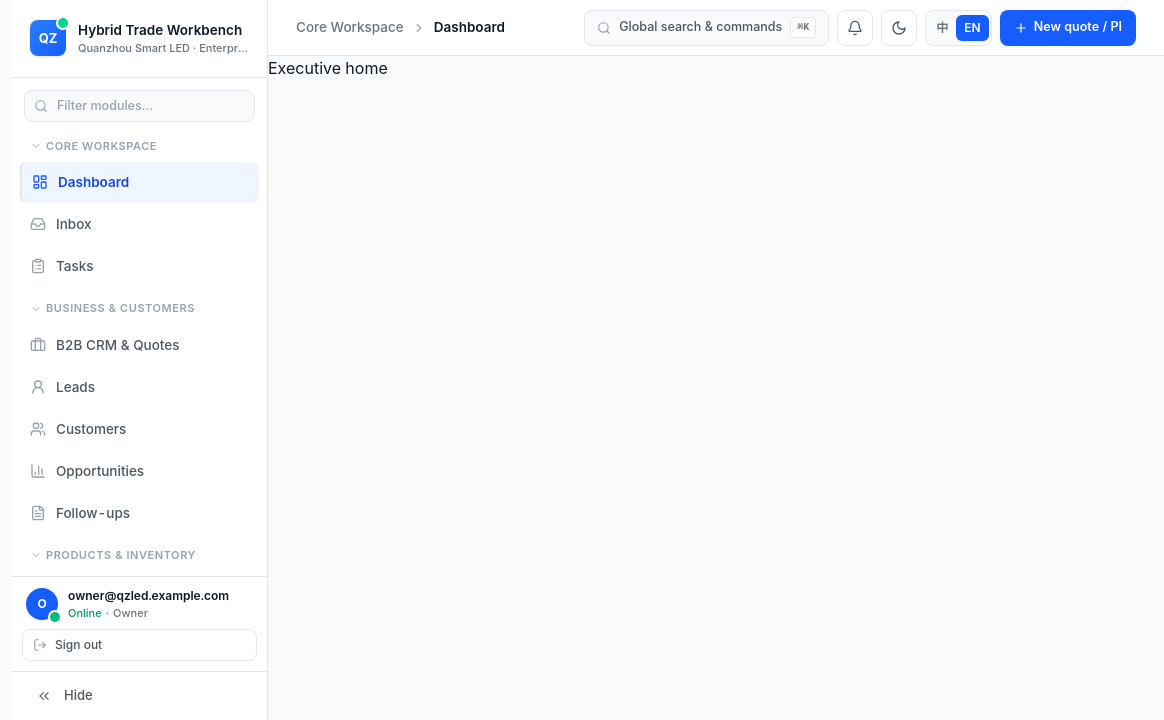
Test case: AppShell streamlined sidebar and Ctrl+K › renders five groups, keeps legacy links and collapses a section
The image size is (1164, 720).
Check: the link "Dashboard" is shown, box [20,162,259,202]
Check: the link "Inbox" is shown, box [30,216,92,232]
Click the button with test id "nav-section-toggle-business" at {"x": 140, "y": 309}, box [20,296,259,321]
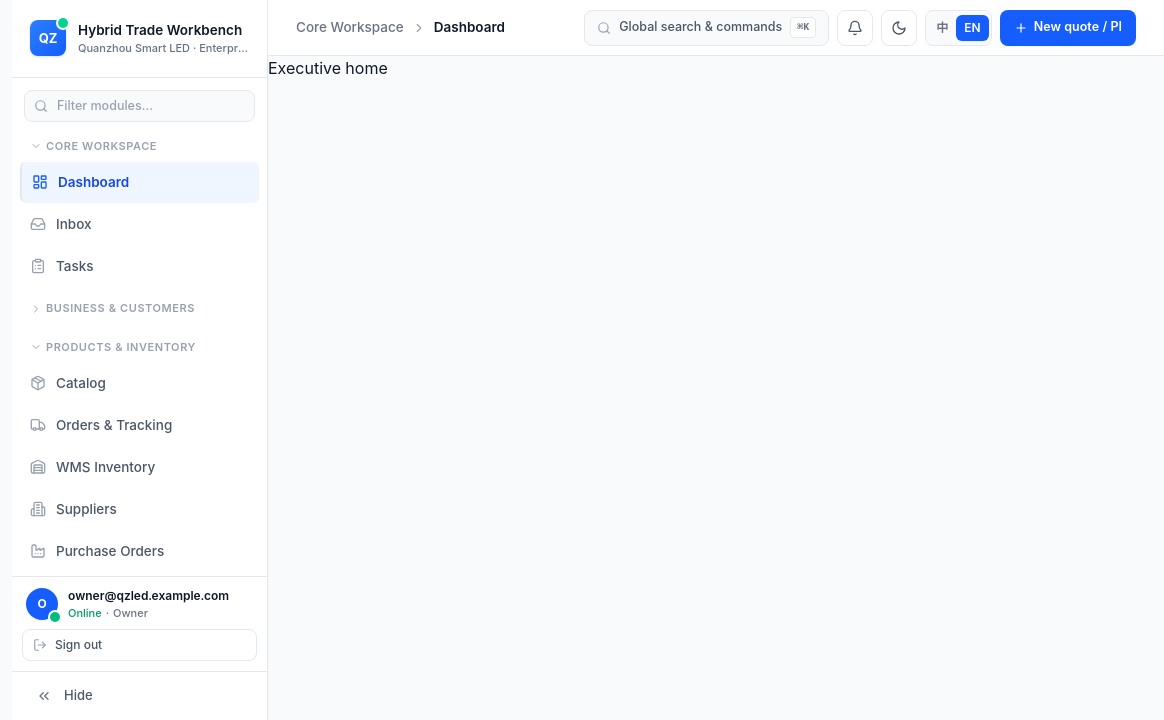
Check: the button with test id "nav-section-toggle-business" is collapsed, box [20,296,259,321]
Check: the link "Leads" is gone
